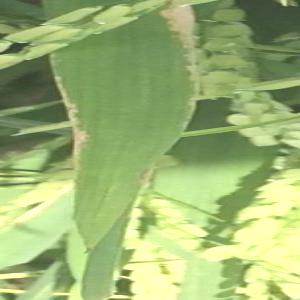2 BacterialBlight: (56, 45, 138, 217)
